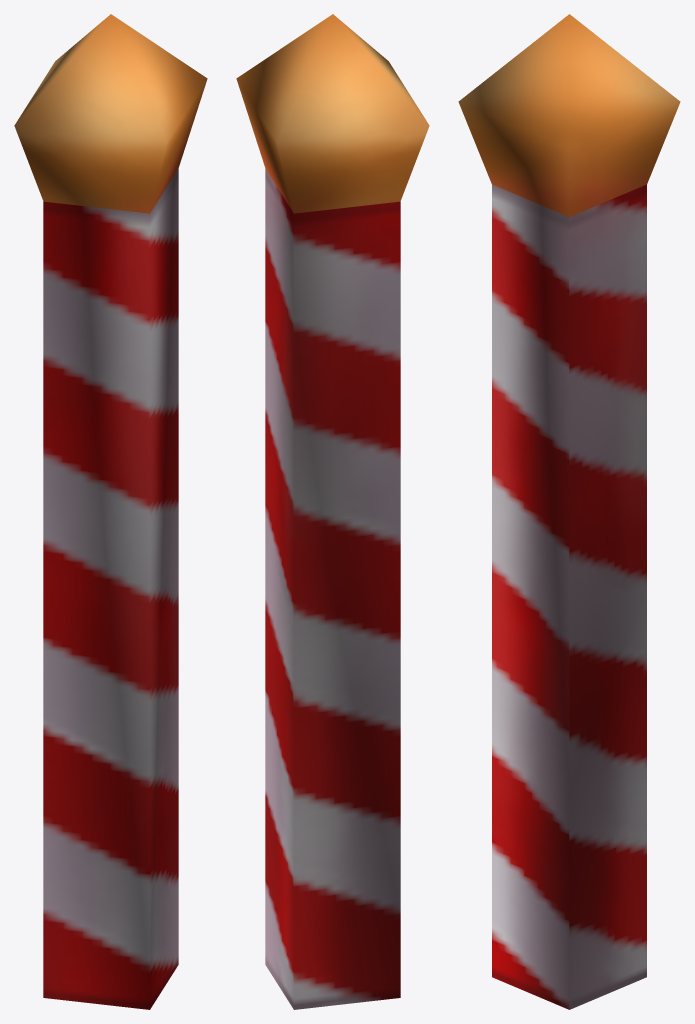
File: HeadTop_0094.FBX
3 renders of one model, left to right at view 1: azimuth 30°, elevation 25°; view 2: azimuth 150°, elevation 25°; view 3: azimuth 270°, elevation 25°, orthographic.
Parts seen in each view (by area): view 1: HeadTop_0094; view 2: HeadTop_0094; view 3: HeadTop_0094.
Part boxes in pixels (<box>): HeadTop_0094: <box>14,14,207,1009</box>; HeadTop_0094: <box>236,14,429,1009</box>; HeadTop_0094: <box>458,14,680,1009</box>.
Bounding box in the file's own units: 0.0606 × 0.2896 × 0.0606.
